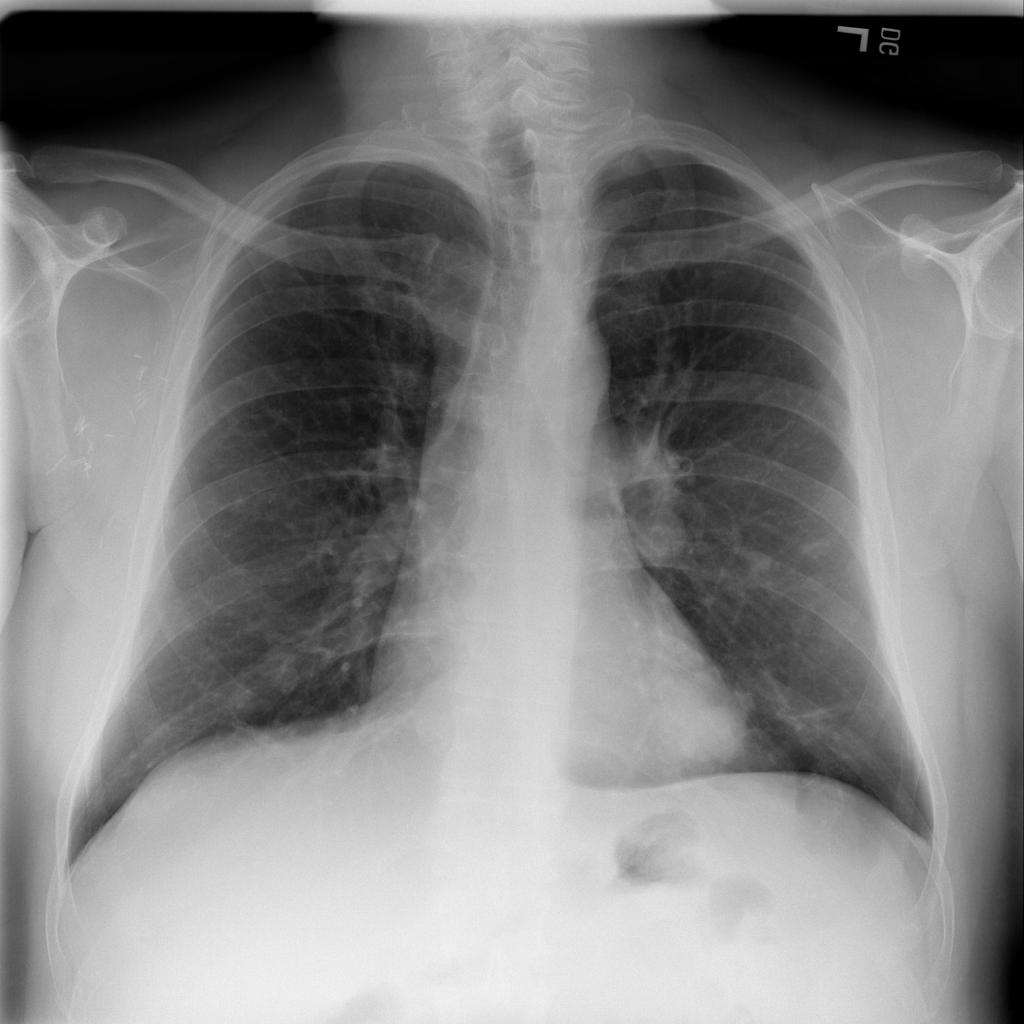nodule: (640, 666, 765, 779)
